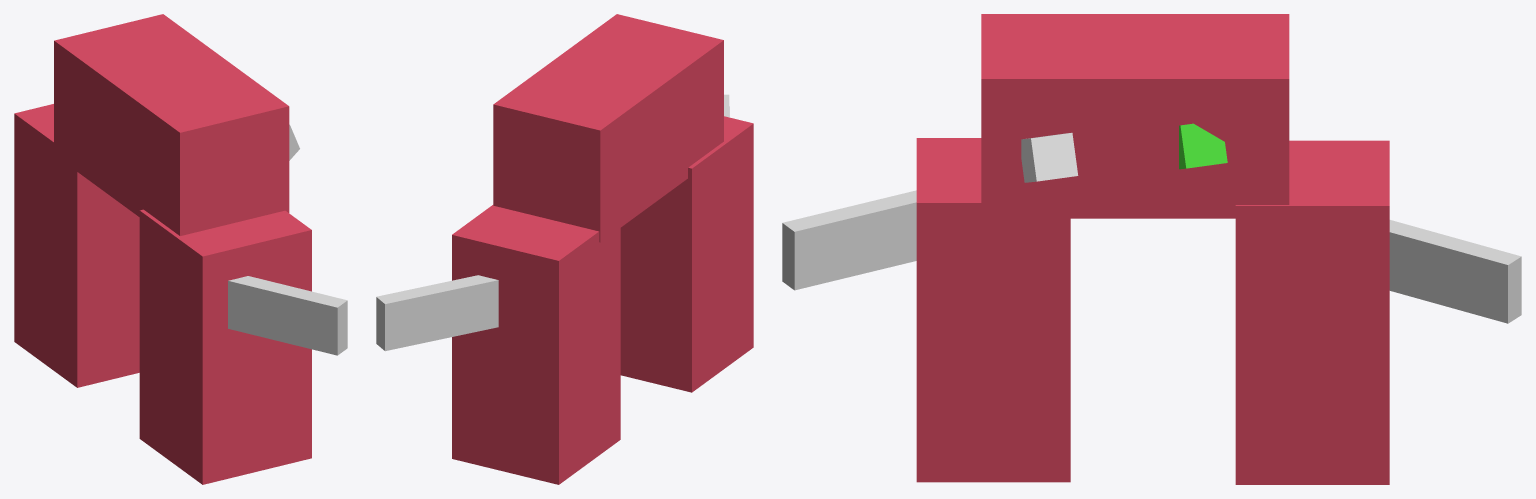
The model's file is Player.fbx.
3 views of the same model, side by side, from view 1: azimuth 30°, elevation 25°; view 2: azimuth 150°, elevation 25°; view 3: azimuth 270°, elevation 25° (orthographic). The views are drawn at different scales.
Parts seen in each view (by area): view 1: Cube.002, Cube, Cube.001, Cube.005; view 2: Cube.001, Cube.002, Cube, Cube.006; view 3: Cube.002, Cube.001, Cube, Cube.005, Cube.006, Cube.003, Cube.004.
Part boxes in pixels (x1=…): Cube.002: x1=54, y1=14, x2=289, y2=235; Cube: x1=139, y1=209, x2=311, y2=484; Cube.001: x1=14, y1=104, x2=139, y2=387; Cube.005: x1=228, y1=276, x2=347, y2=355; Cube.001: x1=452, y1=205, x2=620, y2=484; Cube.002: x1=493, y1=14, x2=723, y2=242; Cube: x1=620, y1=116, x2=753, y2=392; Cube.006: x1=376, y1=275, x2=498, y2=351; Cube.002: x1=981, y1=14, x2=1289, y2=218; Cube.001: x1=1235, y1=140, x2=1389, y2=484; Cube: x1=916, y1=138, x2=1070, y2=482; Cube.005: x1=782, y1=190, x2=916, y2=290; Cube.006: x1=1389, y1=220, x2=1521, y2=323; Cube.003: x1=1021, y1=132, x2=1078, y2=182; Cube.004: x1=1179, y1=123, x2=1227, y2=169.
Size of the model in its own units: 134 by 291 by 480.
